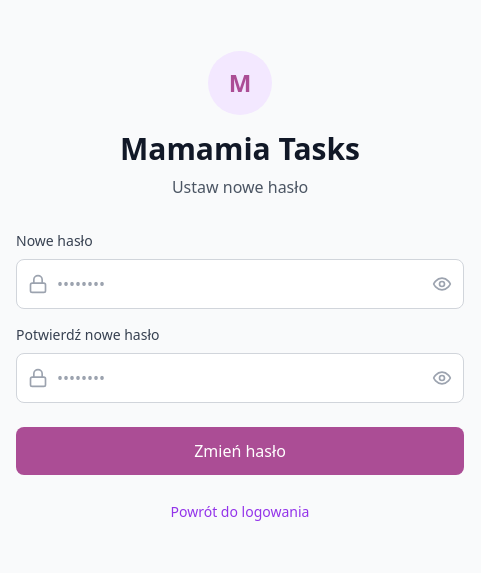
Test: ResetPasswordForm › shows validation error for short password
In the password field labelled "Nowe hasło": (240, 284) [16,259,464,309], type "123"
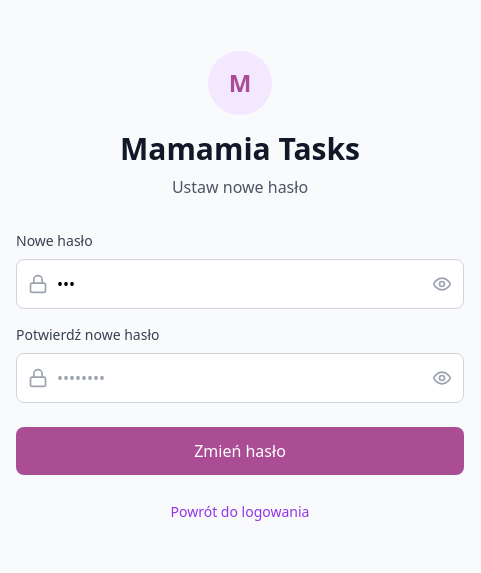
In the password field labelled "Potwierdź nowe hasło": (240, 378) [16,353,464,403], type "123"
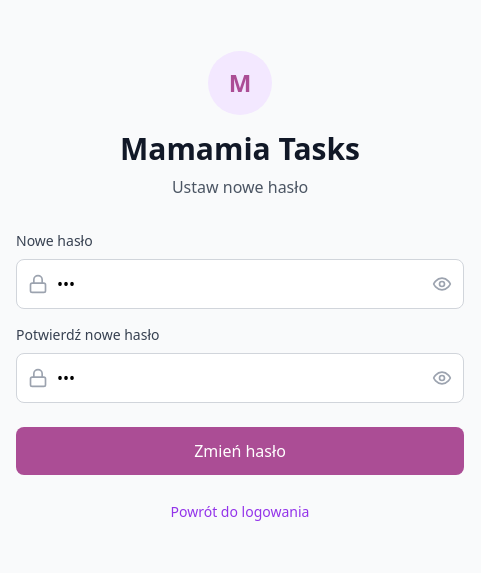
Click the button "Zmień hasło": (240, 451) [16,427,464,475]
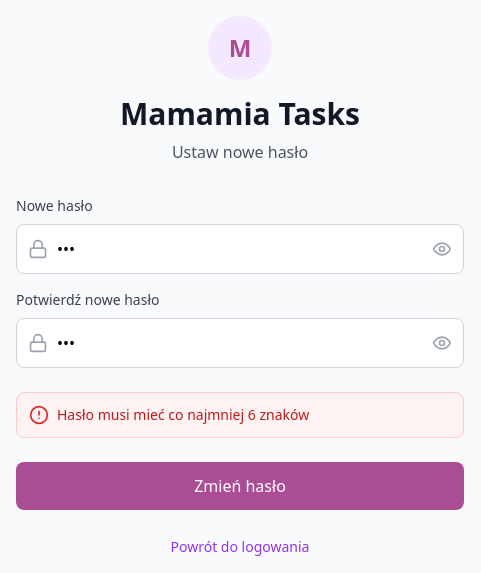
Expected: the text "Hasło musi mieć co najmniej 6 znaków" is shown, [57,405,309,425]
